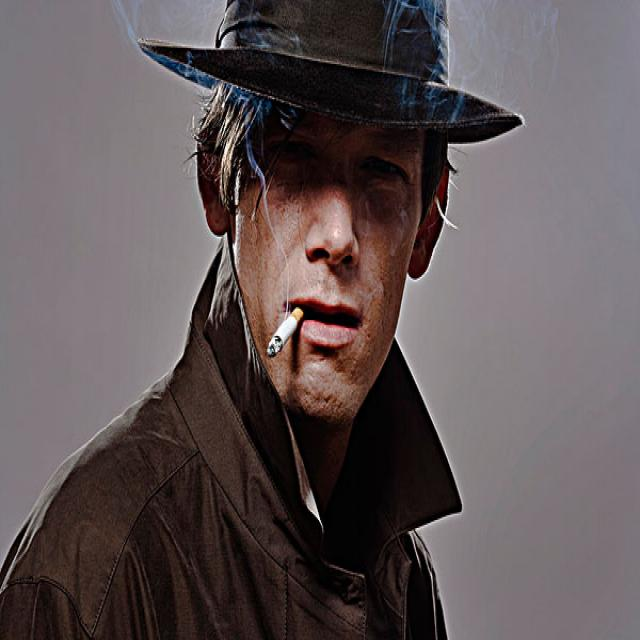smoking: (266, 304, 305, 359)
